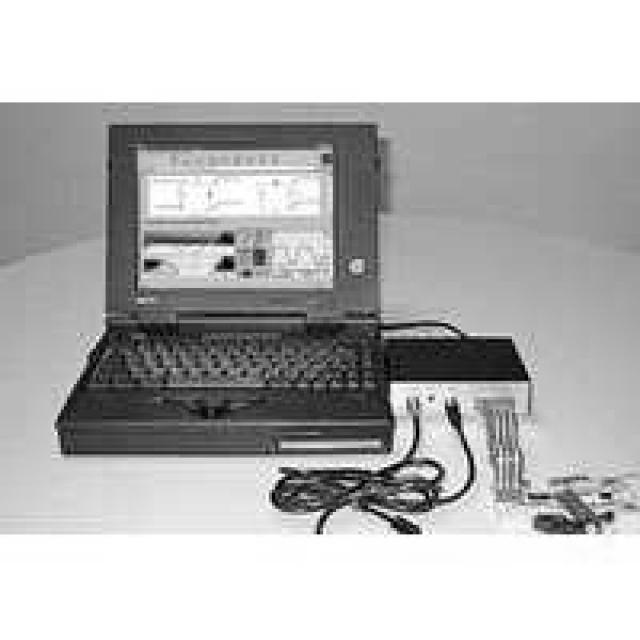laptop: (104, 105, 386, 472)
